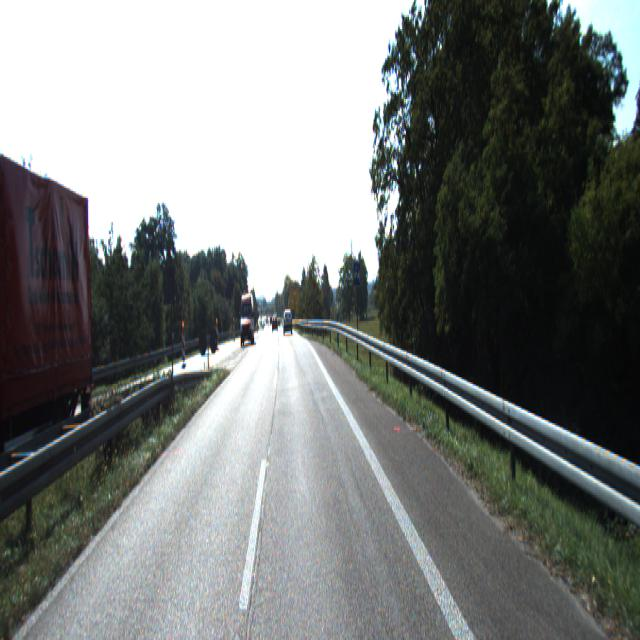Car: (0, 126, 103, 514), (239, 293, 255, 350), (284, 310, 292, 334)
